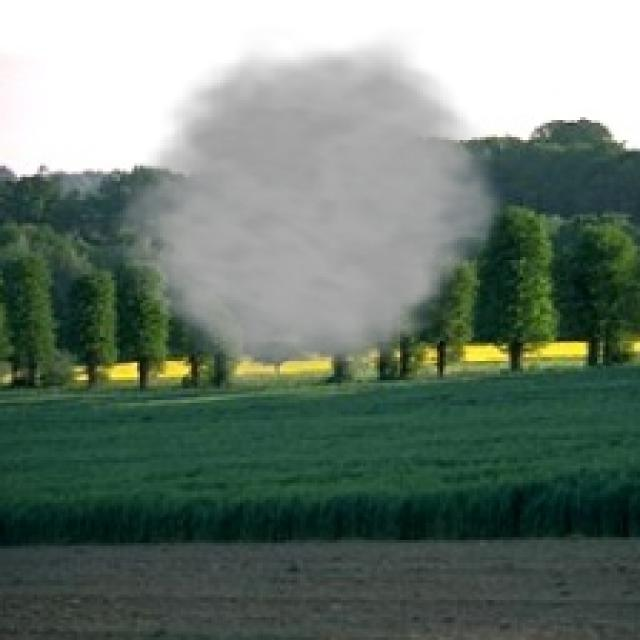smoke: (100, 26, 514, 386)
